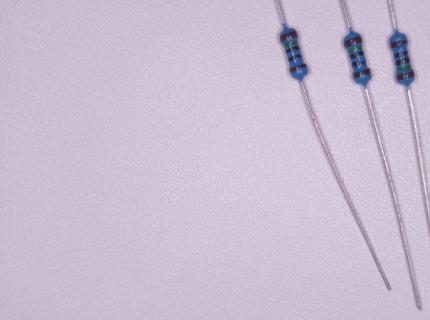Black band: (395, 57, 410, 66), (288, 54, 302, 63), (349, 51, 364, 59), (286, 46, 300, 54), (394, 51, 408, 58), (352, 61, 366, 67)
Brown band: (344, 36, 363, 48), (280, 31, 298, 41), (353, 69, 370, 79), (396, 72, 414, 81), (389, 40, 408, 48), (290, 64, 306, 73)
Green band: (348, 45, 362, 53), (284, 41, 298, 48), (397, 65, 411, 70)
